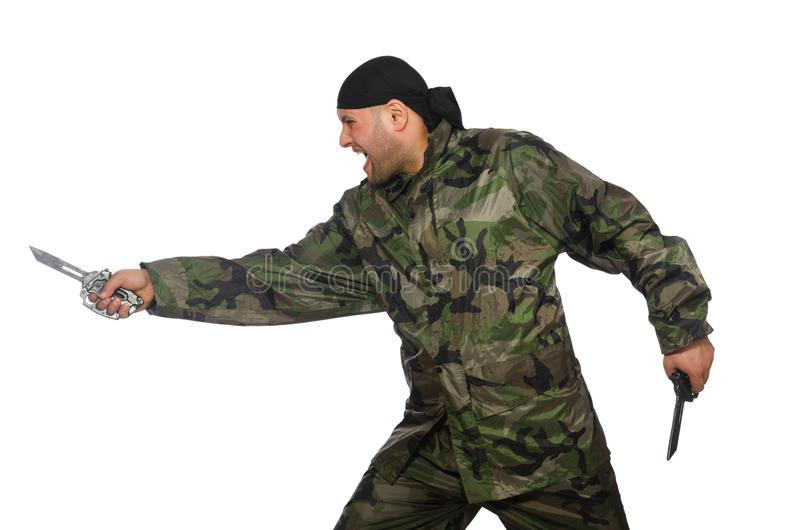criminal: (27, 52, 716, 530)
weapon: (26, 244, 144, 323), (659, 358, 704, 464)
